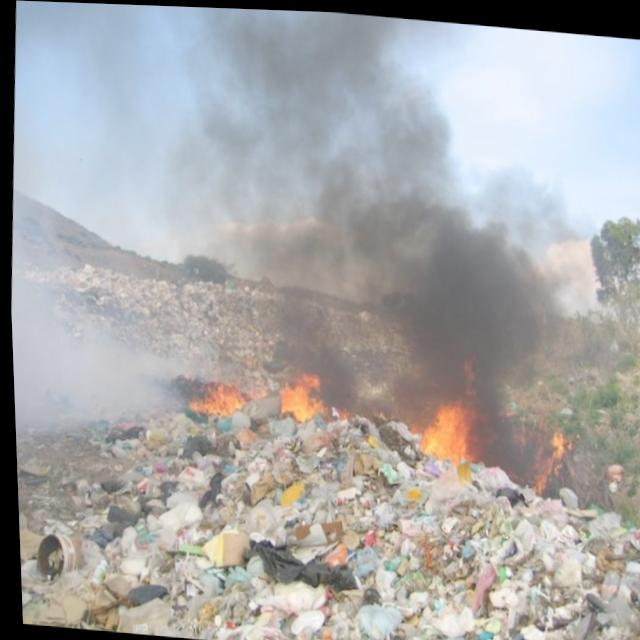smoke: (190, 8, 420, 250)
